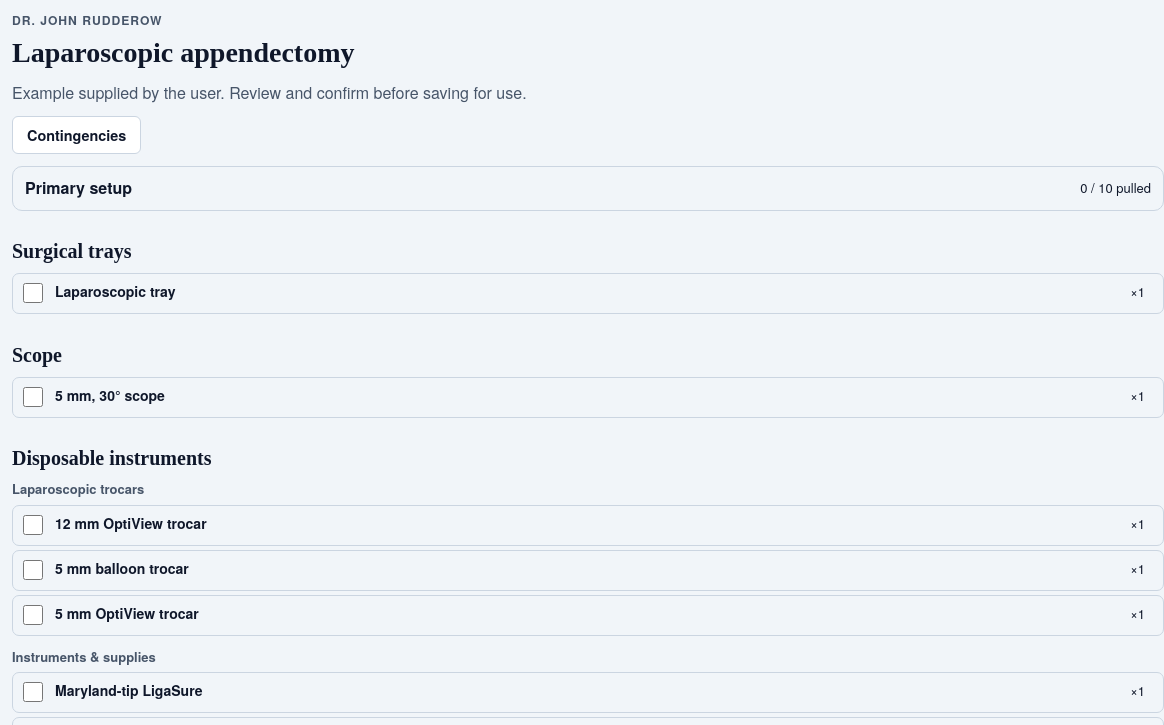
Scenario: blocks pull checks for conflicting contingencies and resets checks when a scenario changes
Click the checkbox named "Mark Laparoscopic tray as pulled" at {"x": 33, "y": 293}, box [23,283,43,303]
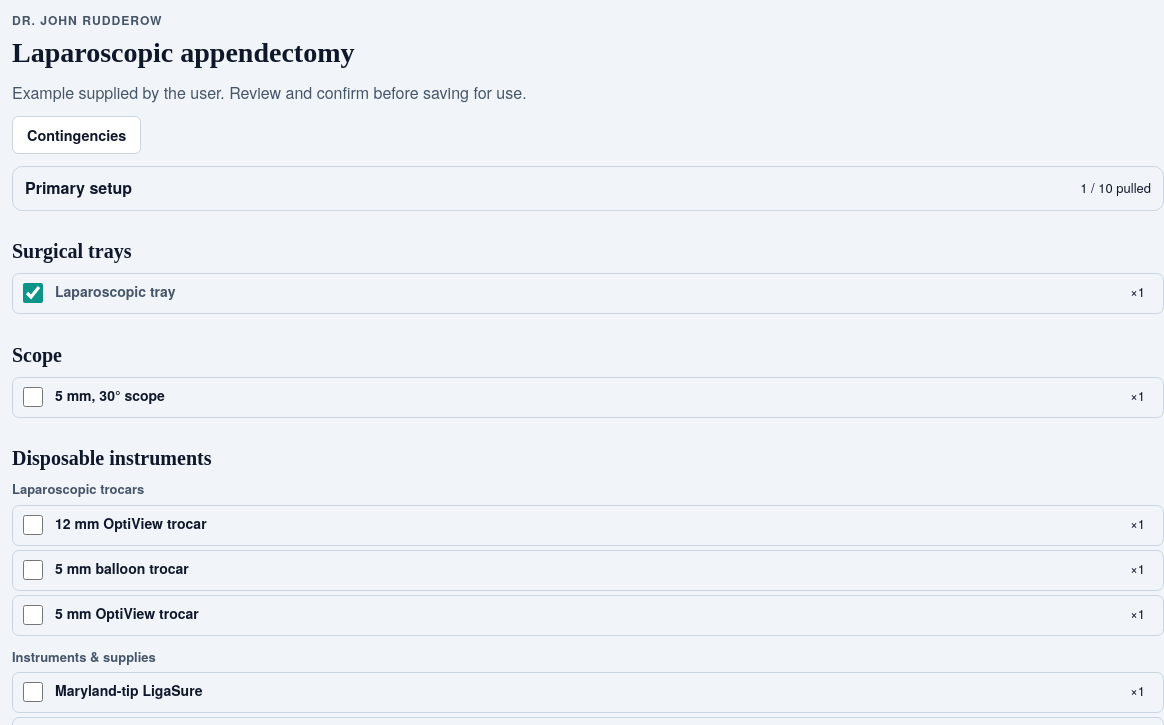
Now the element with class "cp-setup-summary" shows "1 / 10 pulled", box [1080,178,1151,197]
Click the button with class "cp-contingency-toggle" at {"x": 77, "y": 135}, box [12,116,141,154]
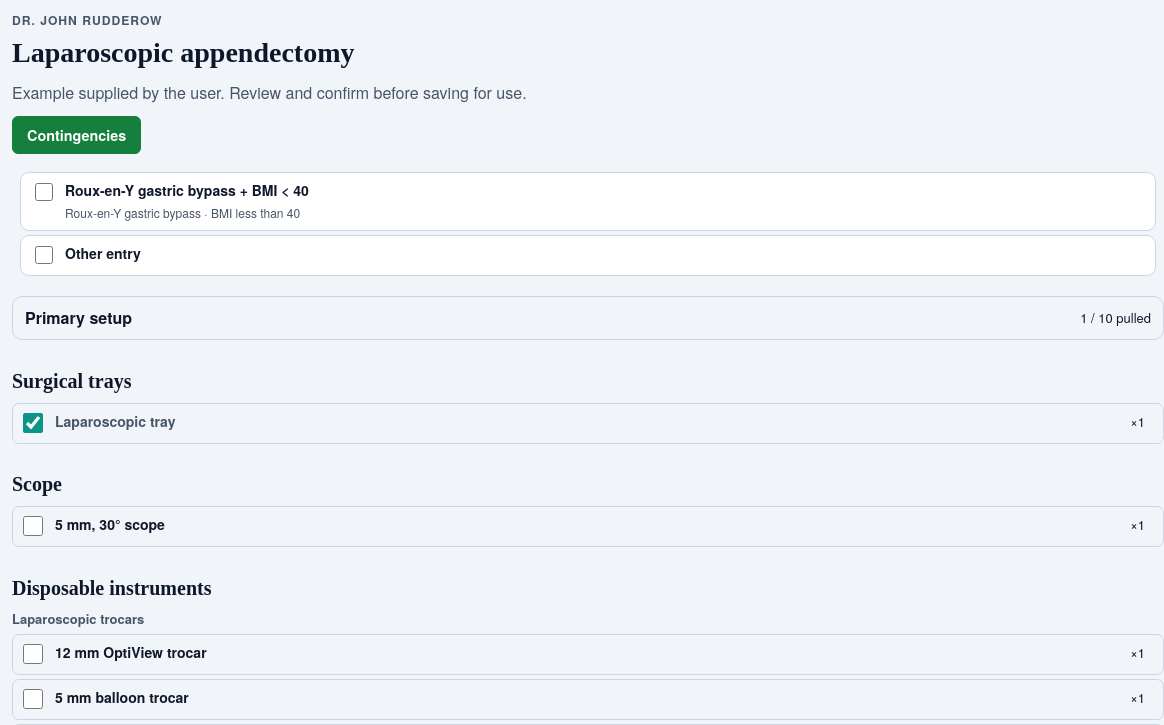
Click the 1st checkbox at {"x": 44, "y": 192}, box [35,183,53,201]
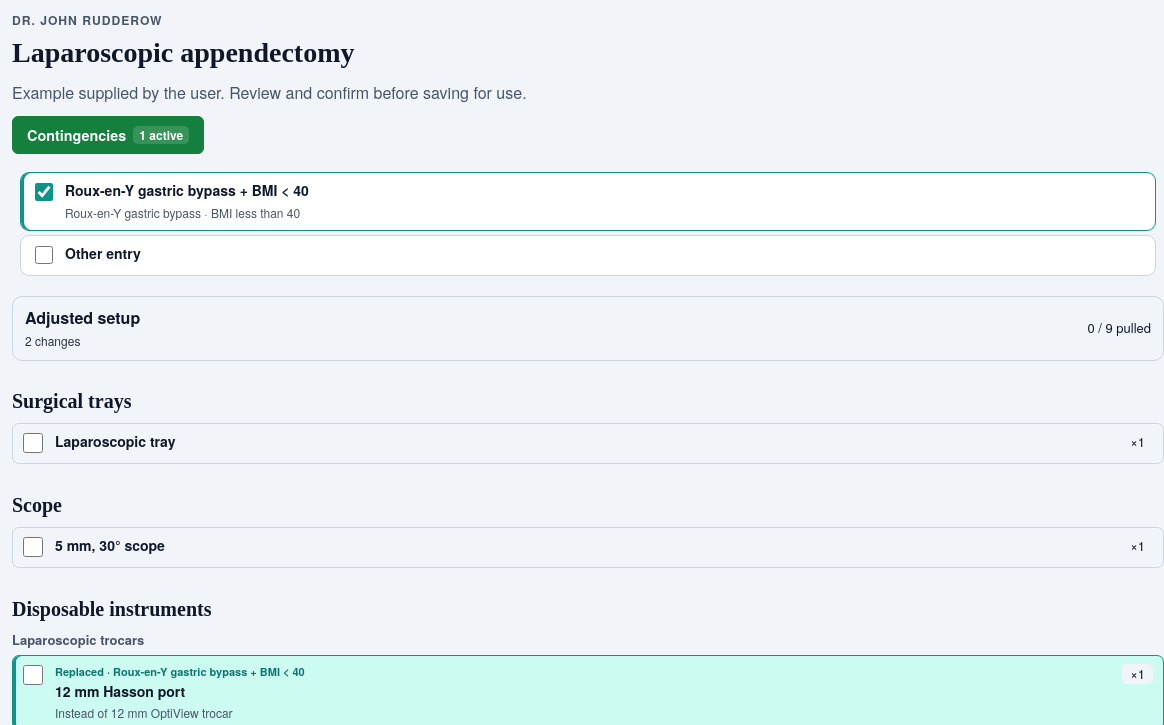
Now the element with class "cp-setup-summary" shows "0 / 9 pulled", box [1087,318,1151,337]
Click the checkbox labelled "Other entry" at {"x": 44, "y": 254}, box [35,246,53,264]
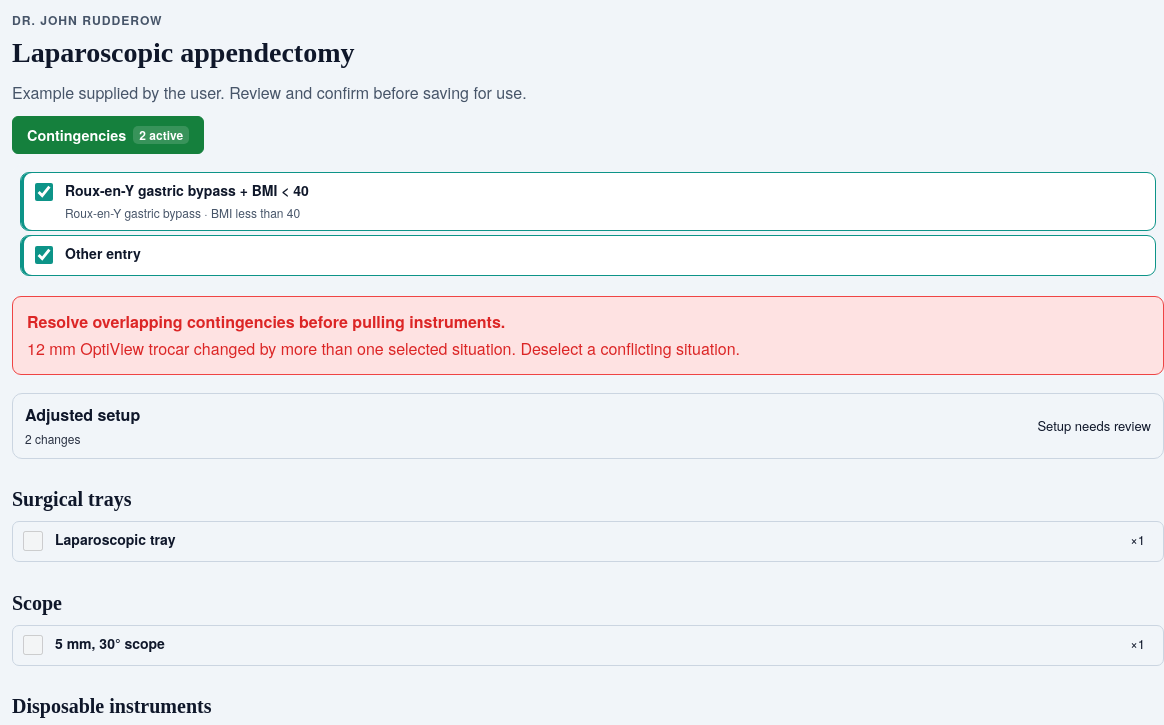
Now the message shows "Resolve overlapping", box [27,310,505,332]
